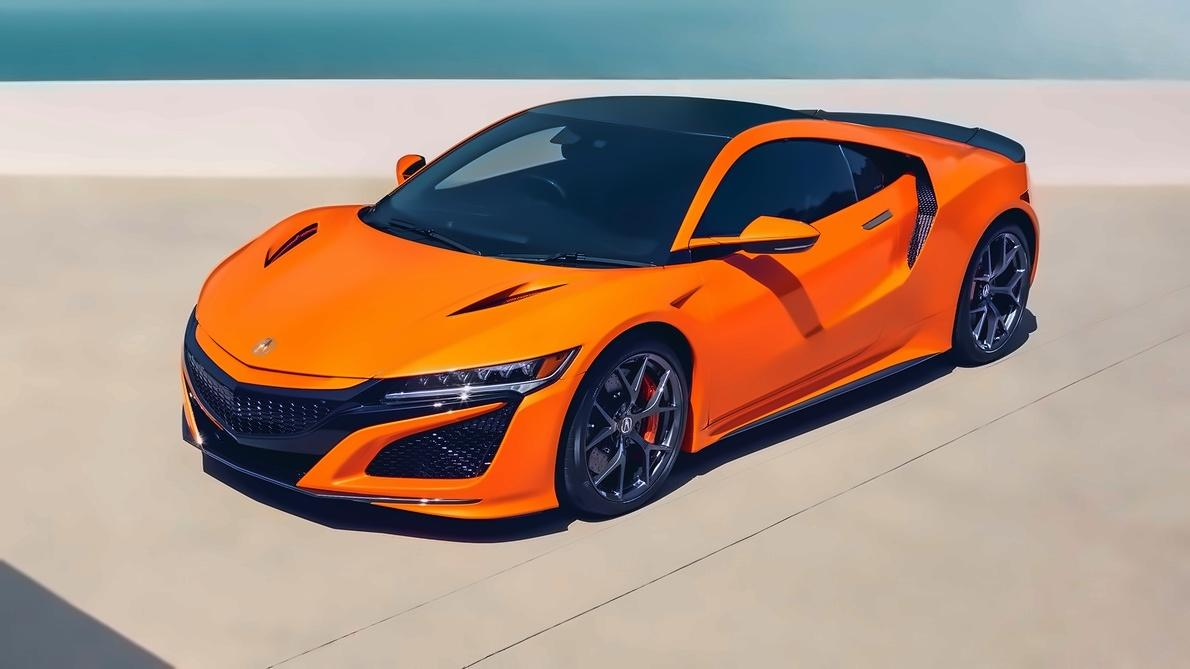Car hood: (189, 201, 679, 381)
Fender - -F-L-: (544, 246, 713, 441)
Fender - -R-L-: (893, 131, 1030, 374)
Front bumper: (167, 384, 591, 524)
Headlight - -L-: (339, 342, 581, 414)
Passenger-s door - -F-L-: (686, 103, 893, 473)
Side bumper - -L-: (688, 313, 961, 475)
Side mirror - -L-: (689, 217, 809, 271)
Side mirror - -R-: (388, 155, 430, 190)
